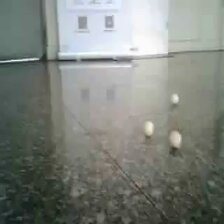w: (167, 130, 183, 148), (142, 120, 155, 137), (170, 94, 180, 104)
